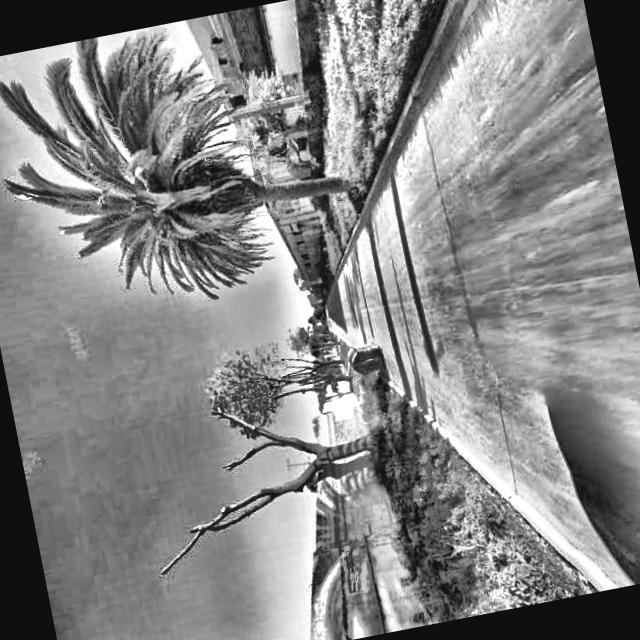Dustbin: (336, 333, 390, 384)
